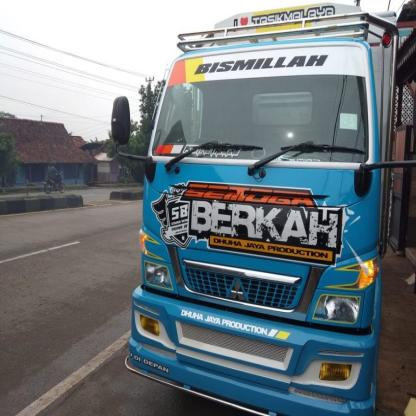truck: (112, 3, 416, 416)
